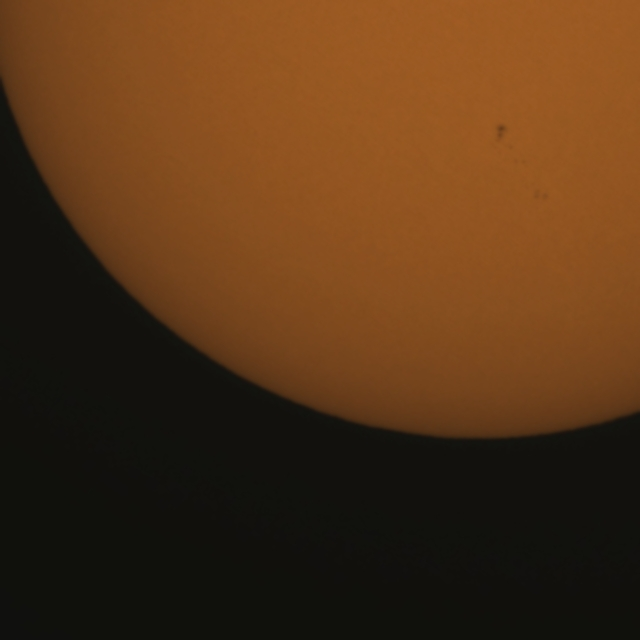sunspot: (494, 122, 518, 156), (494, 121, 509, 144), (532, 187, 550, 204)
